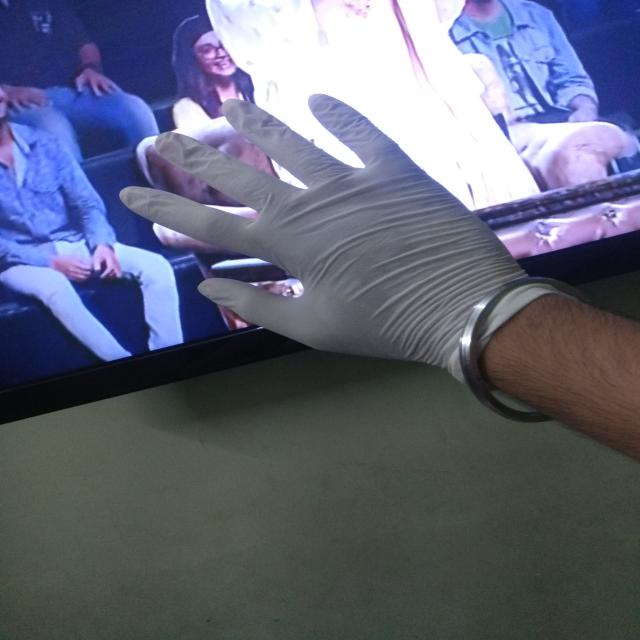Gloves: (121, 109, 566, 393)
No_Gloves: (42, 253, 92, 285), (2, 87, 54, 110), (72, 78, 116, 104), (91, 245, 119, 277)
